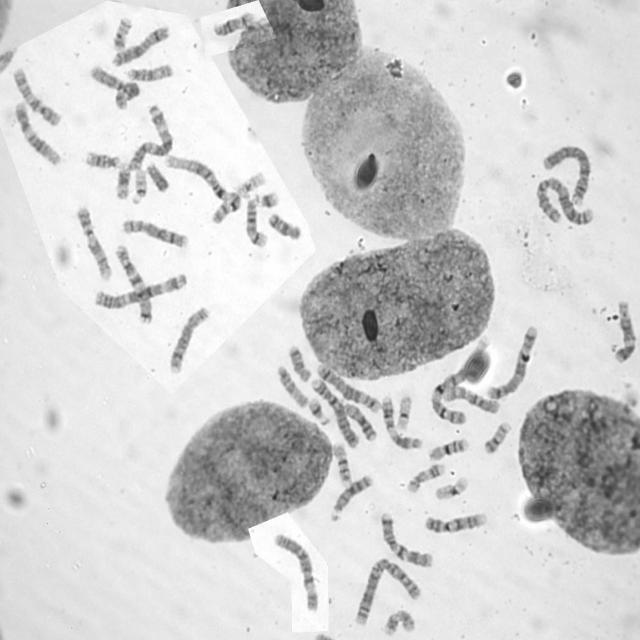A1: (428, 331, 492, 427), (162, 154, 244, 227)
A2: (350, 554, 424, 628), (532, 173, 596, 228)
A3: (91, 270, 190, 310), (128, 106, 180, 173)
B4: (309, 377, 362, 450), (540, 142, 592, 208)
B5: (484, 322, 540, 402), (314, 362, 383, 415)
C10: (10, 64, 64, 127), (443, 383, 500, 416)
C11: (379, 392, 424, 452), (85, 153, 131, 201)
C12: (12, 99, 63, 168), (609, 296, 635, 366)
C6: (271, 530, 320, 614), (88, 65, 138, 109)
C7: (113, 242, 154, 325), (378, 513, 434, 569)
C8: (165, 304, 212, 374), (119, 216, 191, 250)
C9: (74, 204, 114, 282), (422, 508, 489, 535)
D13: (328, 472, 373, 522), (337, 396, 378, 444)
D14: (244, 194, 268, 248), (210, 10, 256, 37)
D15: (278, 362, 310, 408), (124, 60, 174, 83)
E16: (426, 434, 472, 463), (332, 441, 354, 486)
E17: (402, 461, 447, 493), (382, 607, 416, 637)
E18: (266, 210, 302, 242), (286, 342, 312, 383)
F19: (432, 473, 471, 502), (394, 392, 414, 436)
F20: (482, 418, 511, 455), (110, 13, 134, 52)
G21: (306, 393, 336, 427), (256, 188, 280, 210)
G22: (234, 168, 266, 198), (129, 164, 149, 205)
X: (109, 25, 174, 68)
Y: (144, 160, 170, 193)
